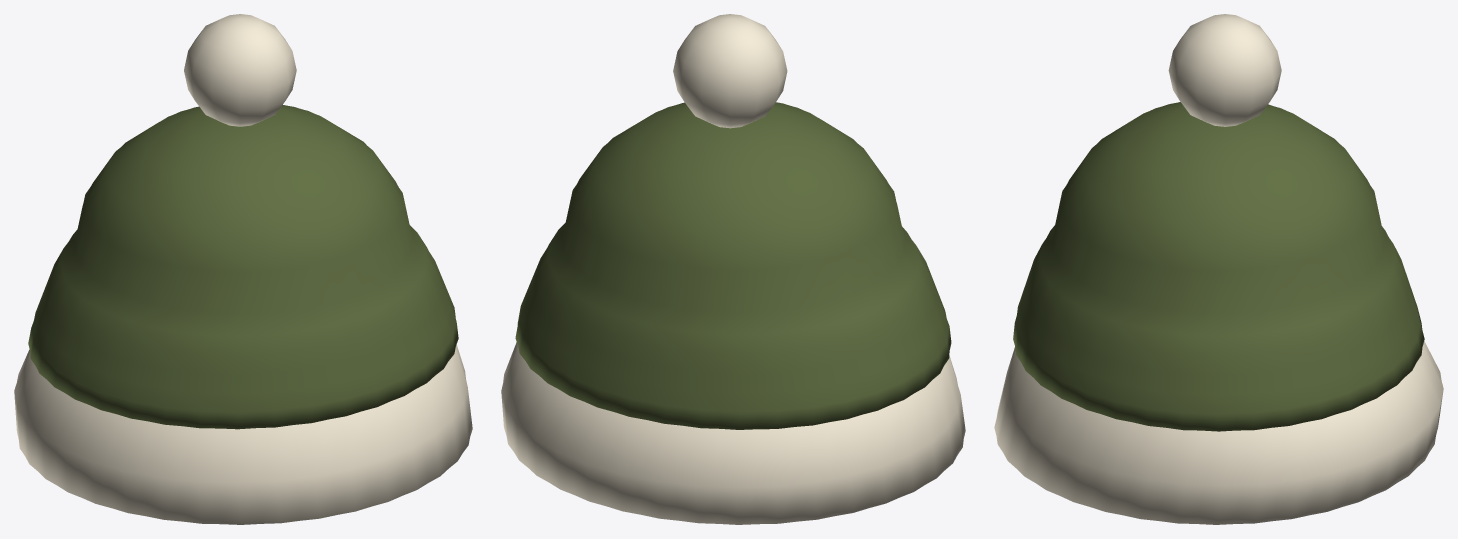
The model's file is beanie.glb.
The picture shows the model from 3 angles, left to right: view 1: azimuth 30°, elevation 25°; view 2: azimuth 150°, elevation 25°; view 3: azimuth 270°, elevation 25°; orthographic projection.
Visible parts, largest first — view 1: beanie; view 2: beanie; view 3: beanie.
Boxes of the visible parts, <box> form: beanie: <box>14,14,472,524</box>; beanie: <box>501,14,965,524</box>; beanie: <box>994,14,1443,524</box>.
Size of the model in its own units: 0.2688 by 0.266 by 0.2623.
